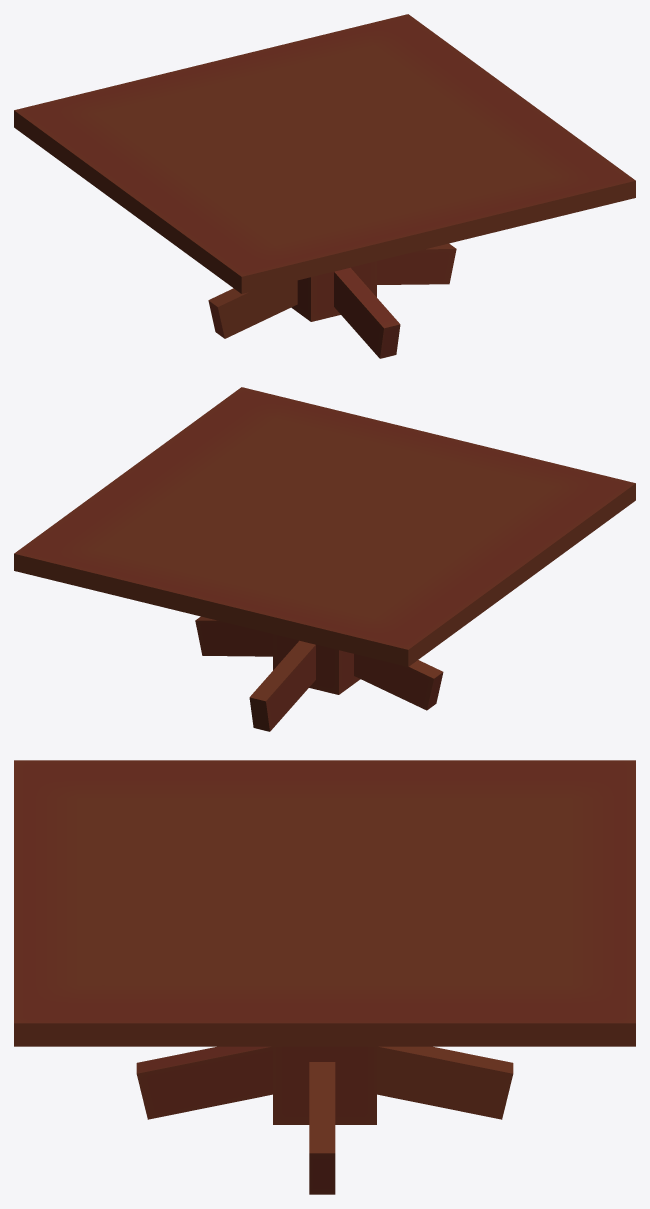
File: Round Table.fbx
3 renders of one model, top to bottom at view 1: azimuth 30°, elevation 25°; view 2: azimuth 150°, elevation 25°; view 3: azimuth 270°, elevation 25°, orthographic. The views are drawn at different scales.
Parts seen in each view (by area): view 1: cube; view 2: cube; view 3: cube.
Part boxes in pixels (x1,y1,x2,y2): cube: [14, 14, 635, 358]; cube: [14, 387, 635, 731]; cube: [14, 760, 635, 1194].
Bounding box in the file's own units: 37.5 × 14.87 × 37.5.
Materials: 1 (1 with a texture image).
